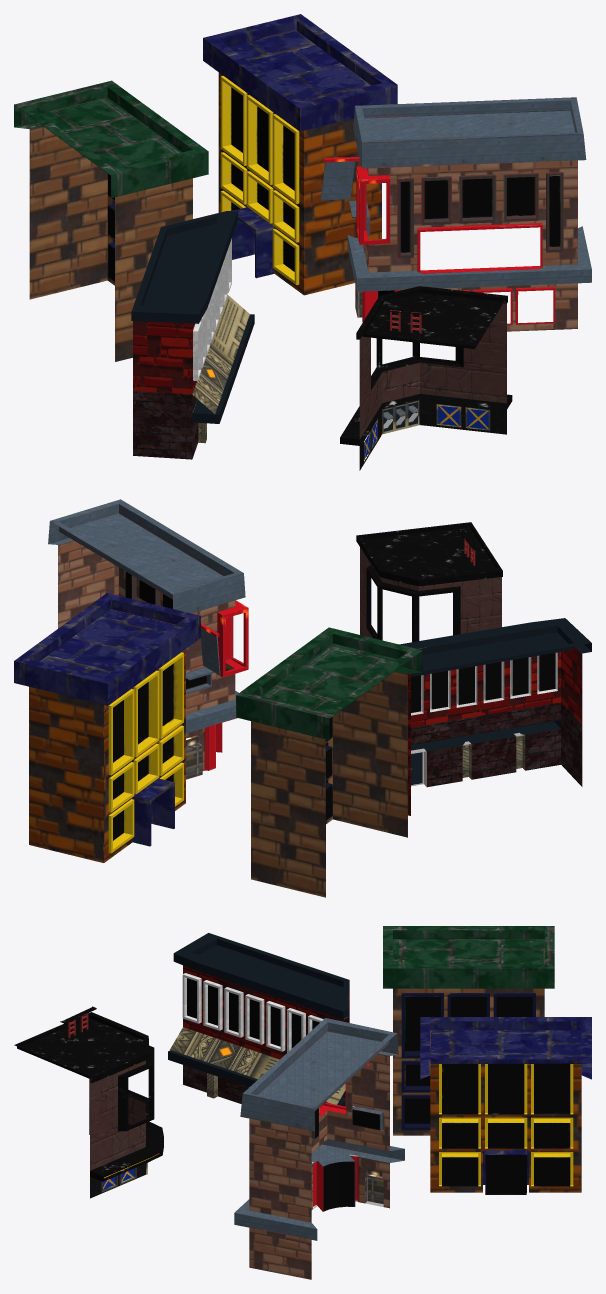
Rendered from allBuildings.glb.
3 renders of one model, top to bottom at view 1: azimuth 30°, elevation 25°; view 2: azimuth 150°, elevation 25°; view 3: azimuth 270°, elevation 25°, orthographic. The views are drawn at different scales.
Visible parts, largest first — view 1: allBuildings; view 2: allBuildings; view 3: allBuildings.
Part boxes in pixels (bbox=[...]): allBuildings: bbox=[14, 14, 591, 470]; allBuildings: bbox=[14, 499, 591, 897]; allBuildings: bbox=[14, 926, 591, 1279].
Bounding box in the file's own units: 55.24 × 20.39 × 60.85.
Materials: 1 (1 with a texture image).
